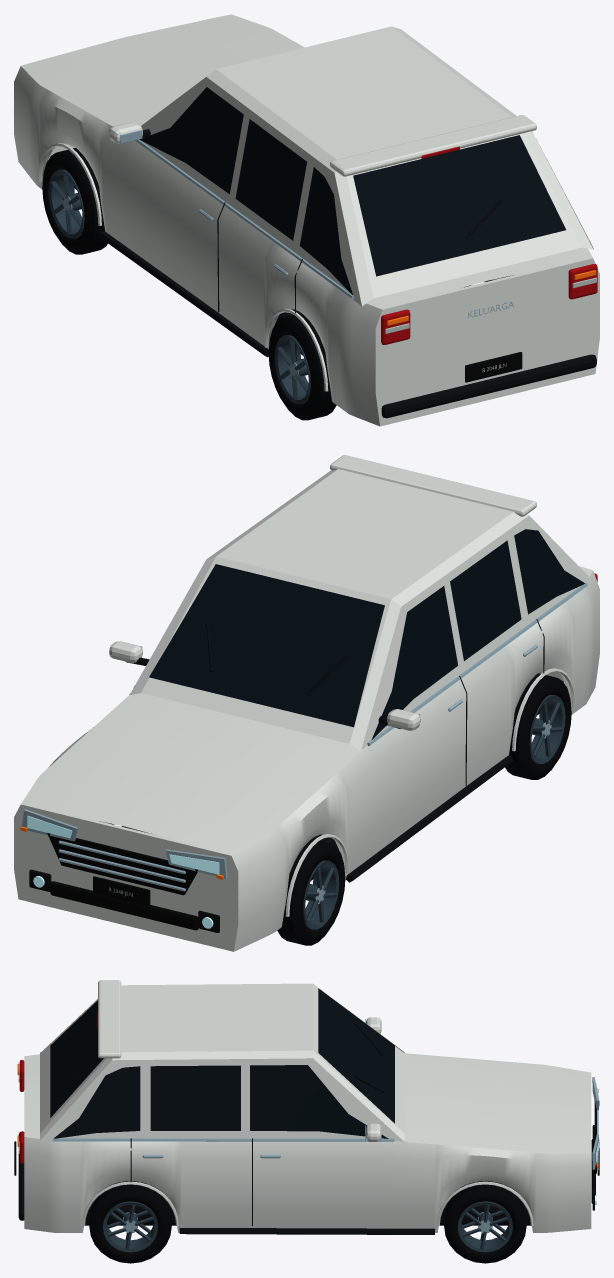
The model's file is Body.fbx.
3 views of the same model, one above another, from view 1: azimuth 30°, elevation 25°; view 2: azimuth 150°, elevation 25°; view 3: azimuth 270°, elevation 25° (orthographic). The views are drawn at different scales.
Parts seen in each view (by area): view 1: Body_Mesh, Wheel_RL_Mesh, Wheel_FL_Mesh, TailLights_Mesh; view 2: Body_Mesh, Wheel_FL_Mesh, Wheel_RL_Mesh, Headlights_Mesh; view 3: Body_Mesh, Wheel_RR_Mesh, Wheel_FR_Mesh, TailLights_Mesh.
Boxes of the visible parts, x1,y1,x2,y2 form: Body_Mesh: [14, 14, 599, 426]; Wheel_RL_Mesh: [268, 313, 336, 420]; Wheel_FL_Mesh: [42, 148, 107, 254]; TailLights_Mesh: [381, 146, 597, 344]; Body_Mesh: [14, 455, 599, 951]; Wheel_FL_Mesh: [277, 839, 345, 945]; Wheel_RL_Mesh: [505, 673, 571, 779]; Headlights_Mesh: [22, 809, 227, 928]; Body_Mesh: [14, 980, 599, 1234]; Wheel_RR_Mesh: [89, 1184, 171, 1263]; Wheel_FR_Mesh: [444, 1184, 526, 1263]; TailLights_Mesh: [18, 1012, 97, 1163].
Bounding box in the file's own units: 215 × 170 × 454.
